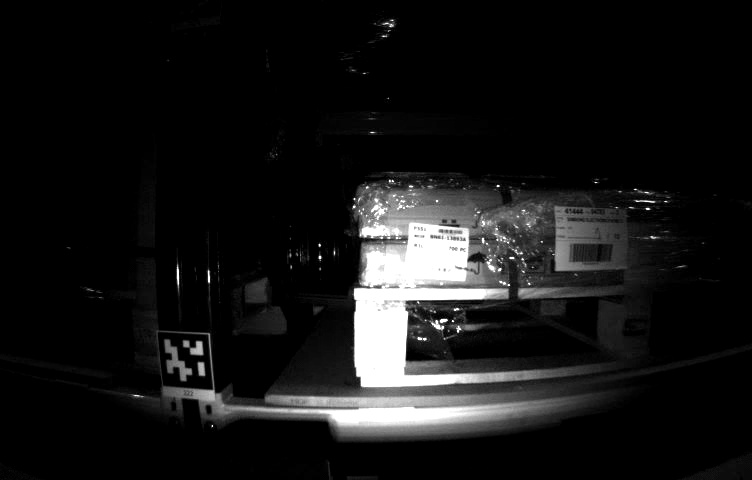True Barcode: (403, 220, 471, 290)
